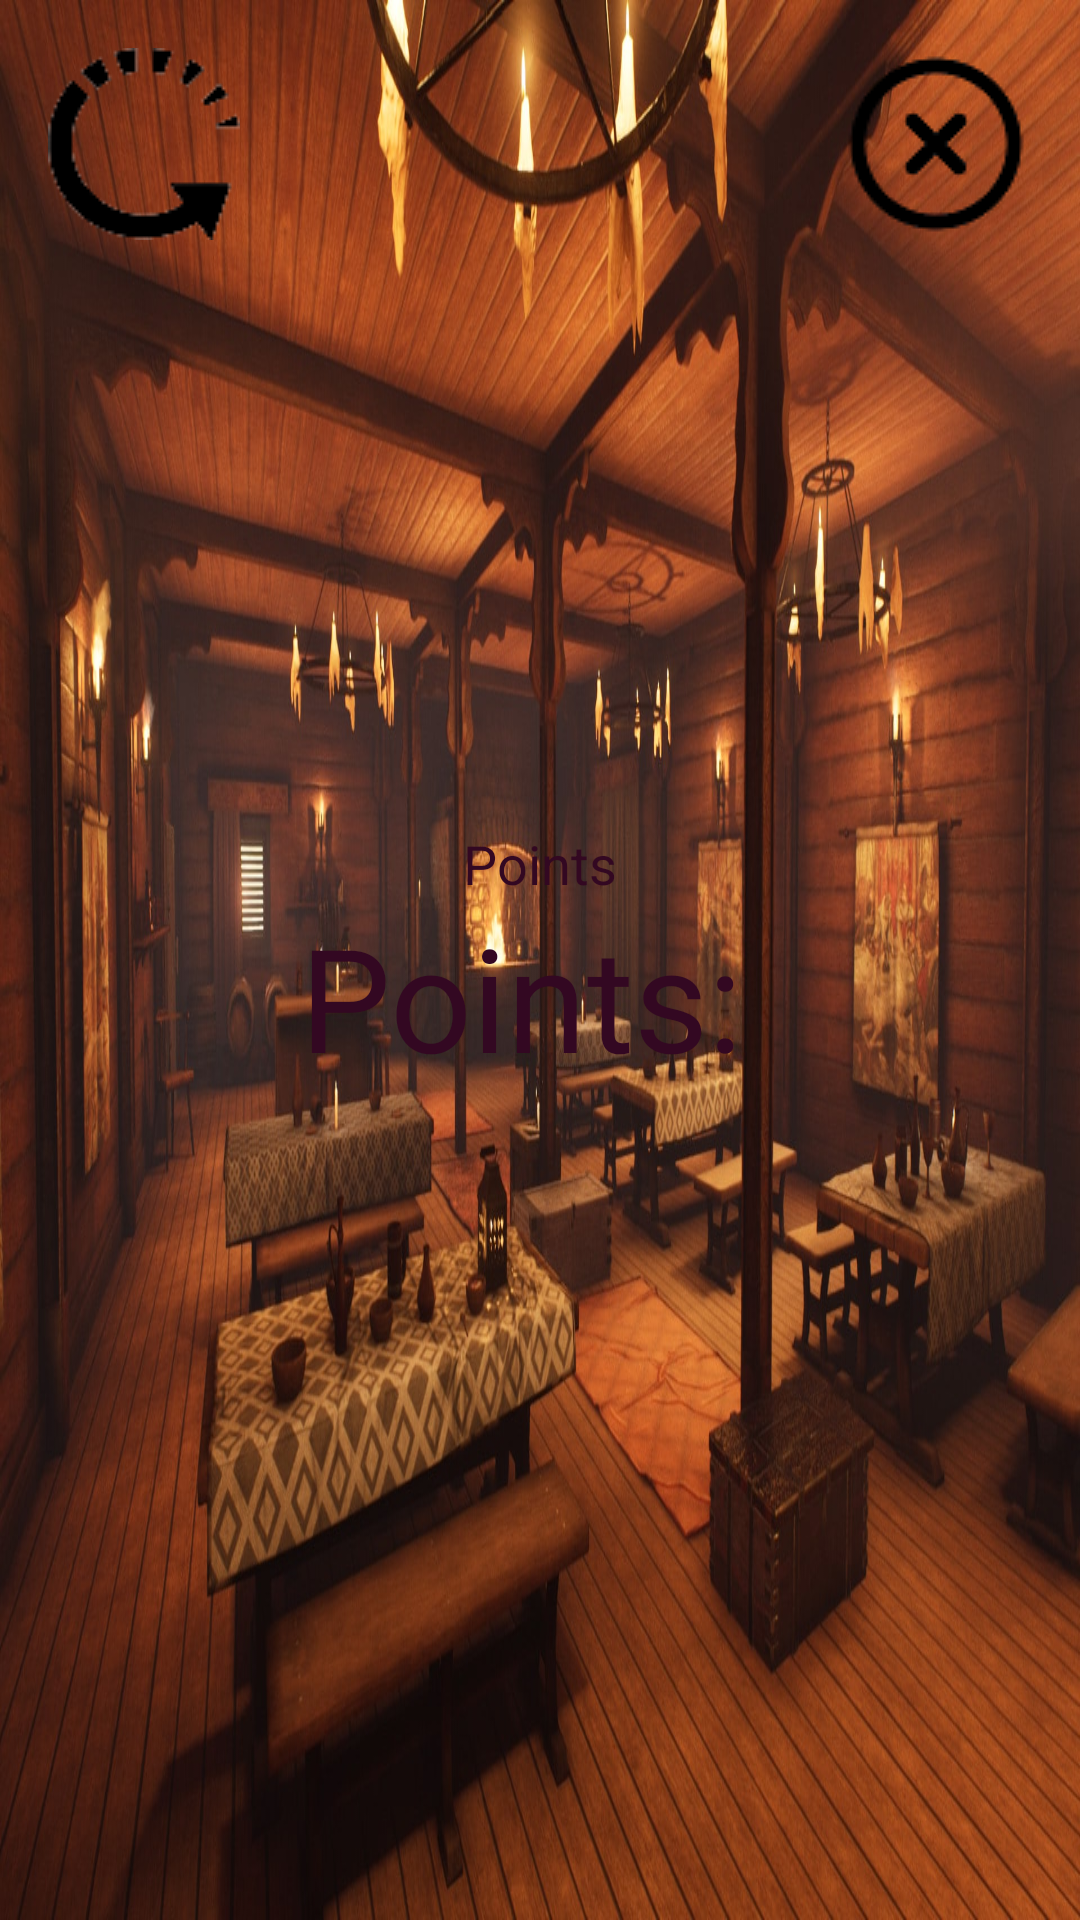

Icons on this 1080 x 1920 Android screen, each with the point to tap as point (x, y):
exit: point (936, 144)
restart: point (144, 144)
